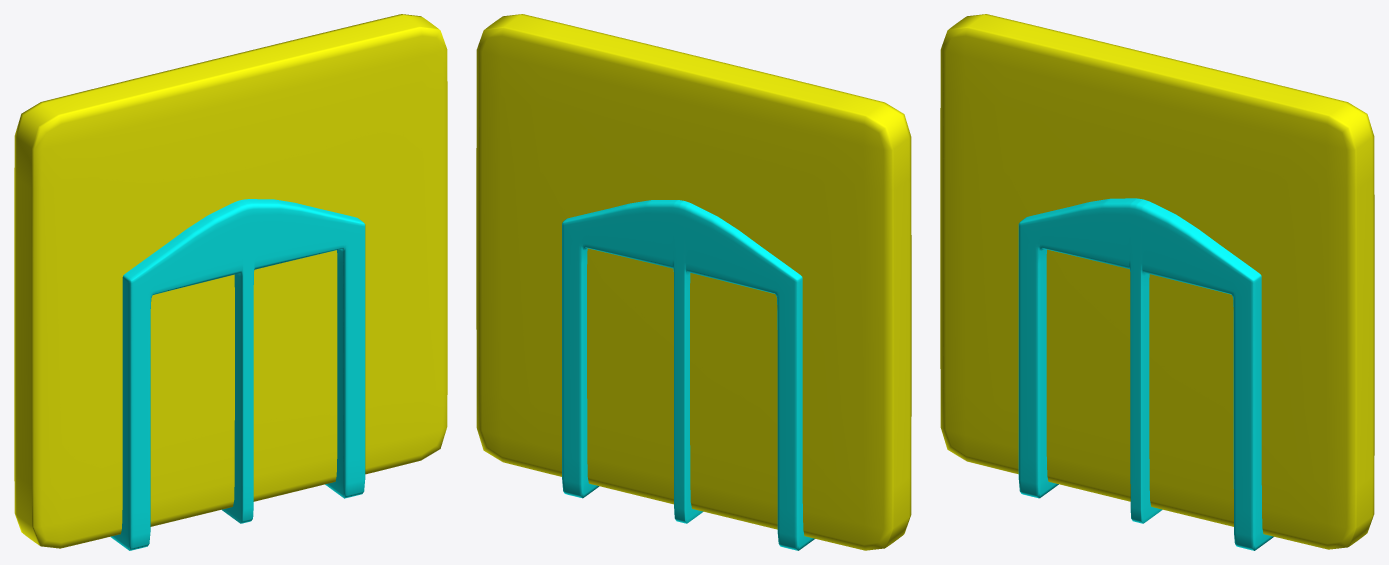
3 renders of one model, left to right at view 1: azimuth 30°, elevation 25°; view 2: azimuth 150°, elevation 25°; view 3: azimuth 330°, elevation 25°, orthographic.
Parts seen in each view (by area): view 1: polySurface986; view 2: polySurface986; view 3: polySurface986.
Part boxes in pixels (x1,y1,x2,y2): polySurface986: [14, 14, 447, 550]; polySurface986: [476, 14, 911, 550]; polySurface986: [940, 14, 1374, 550].
Bounding box in the file's own units: 0.9994 × 1.03 × 0.1515.
